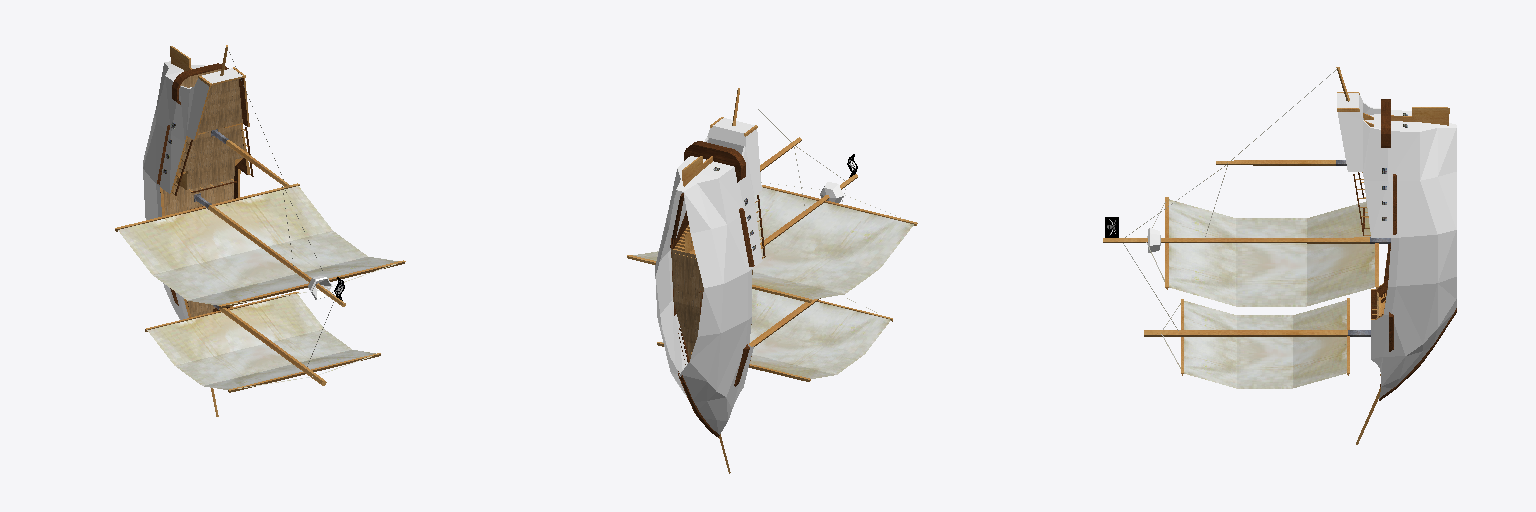
3 renders of one model, left to right at view 1: azimuth 30°, elevation 25°; view 2: azimuth 150°, elevation 25°; view 3: azimuth 270°, elevation 25°, orthographic.
Visible parts, largest first — view 1: Galleon; view 2: Galleon; view 3: Galleon.
Boxes of the visible parts, <box> form: Galleon: <box>115,45,405,416</box>; Galleon: <box>627,88,917,473</box>; Galleon: <box>1103,67,1456,444</box>.
Bounding box in the file's own units: 12.71 × 24.87 × 21.04.
3 materials, 2 textured.